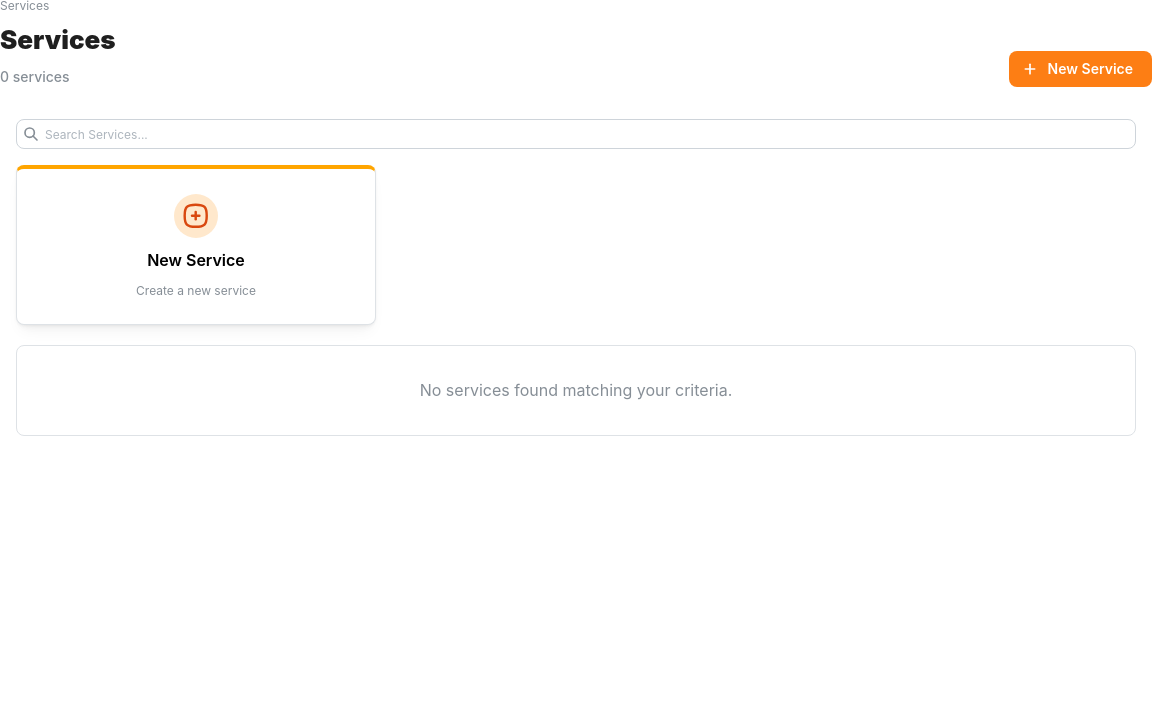
Test: Services page › New Service button opens the modal
Click the button "New Service": (1080, 69) [1008,51,1151,87]
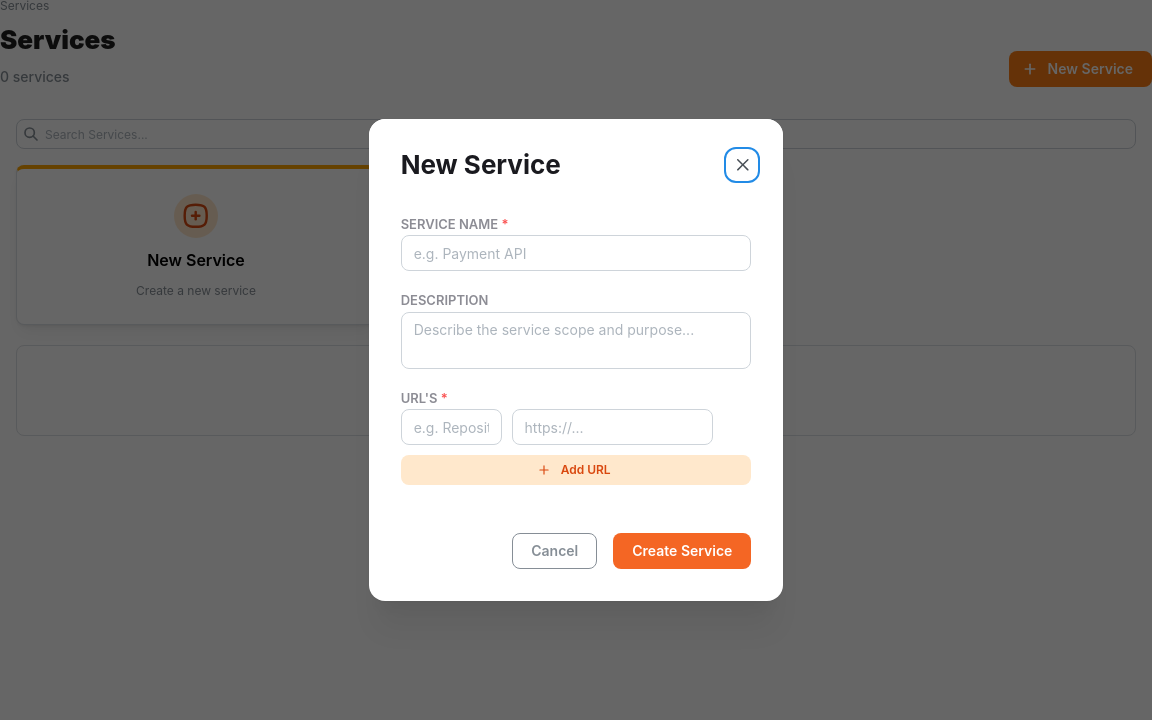
expect the form with test id "service-create-form" is shown: met, box [401,211,751,569]
